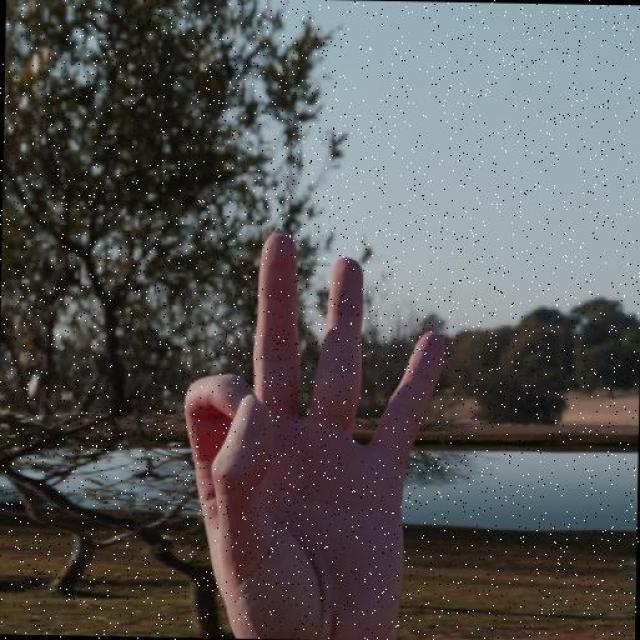F: (170, 225, 449, 640)
